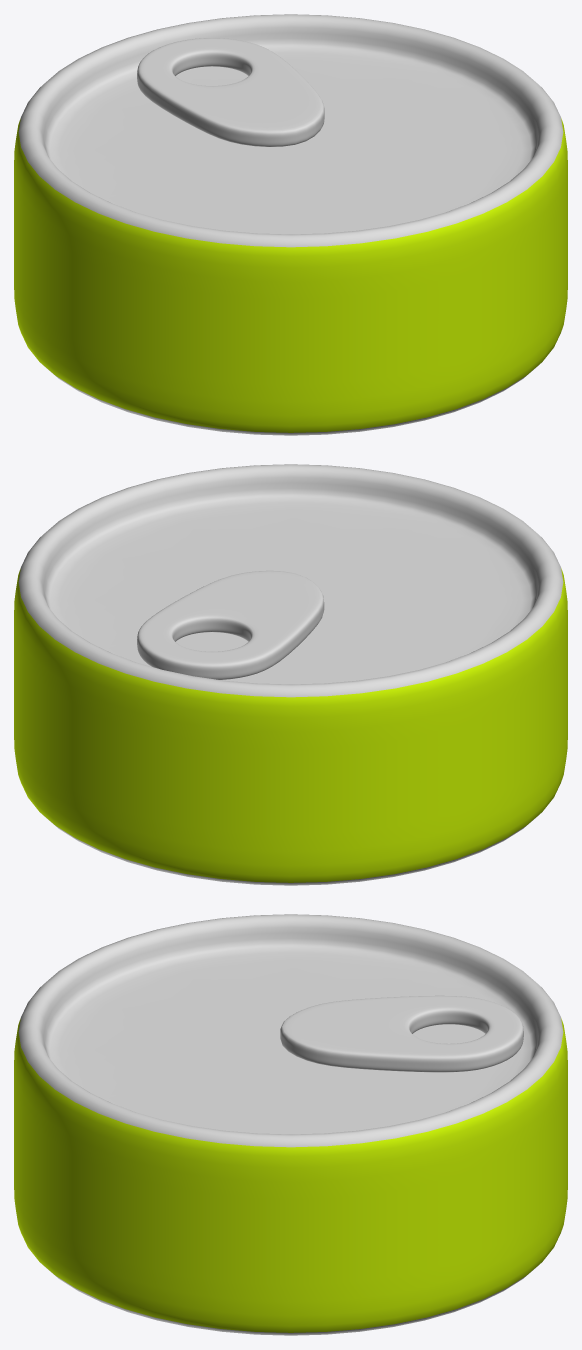
Rendered from greencan.fbx.
3 renders of one model, top to bottom at view 1: azimuth 30°, elevation 25°; view 2: azimuth 150°, elevation 25°; view 3: azimuth 270°, elevation 25°, orthographic.
Parts seen in each view (by area): view 1: pCylinder12; view 2: pCylinder12; view 3: pCylinder12.
Boxes of the visible parts, box(x1,y1,x2,y2) form: pCylinder12: box(14, 14, 567, 435); pCylinder12: box(14, 464, 567, 885); pCylinder12: box(14, 914, 567, 1335).
Bounding box in the file's own units: 95.49 × 38.06 × 95.49.
